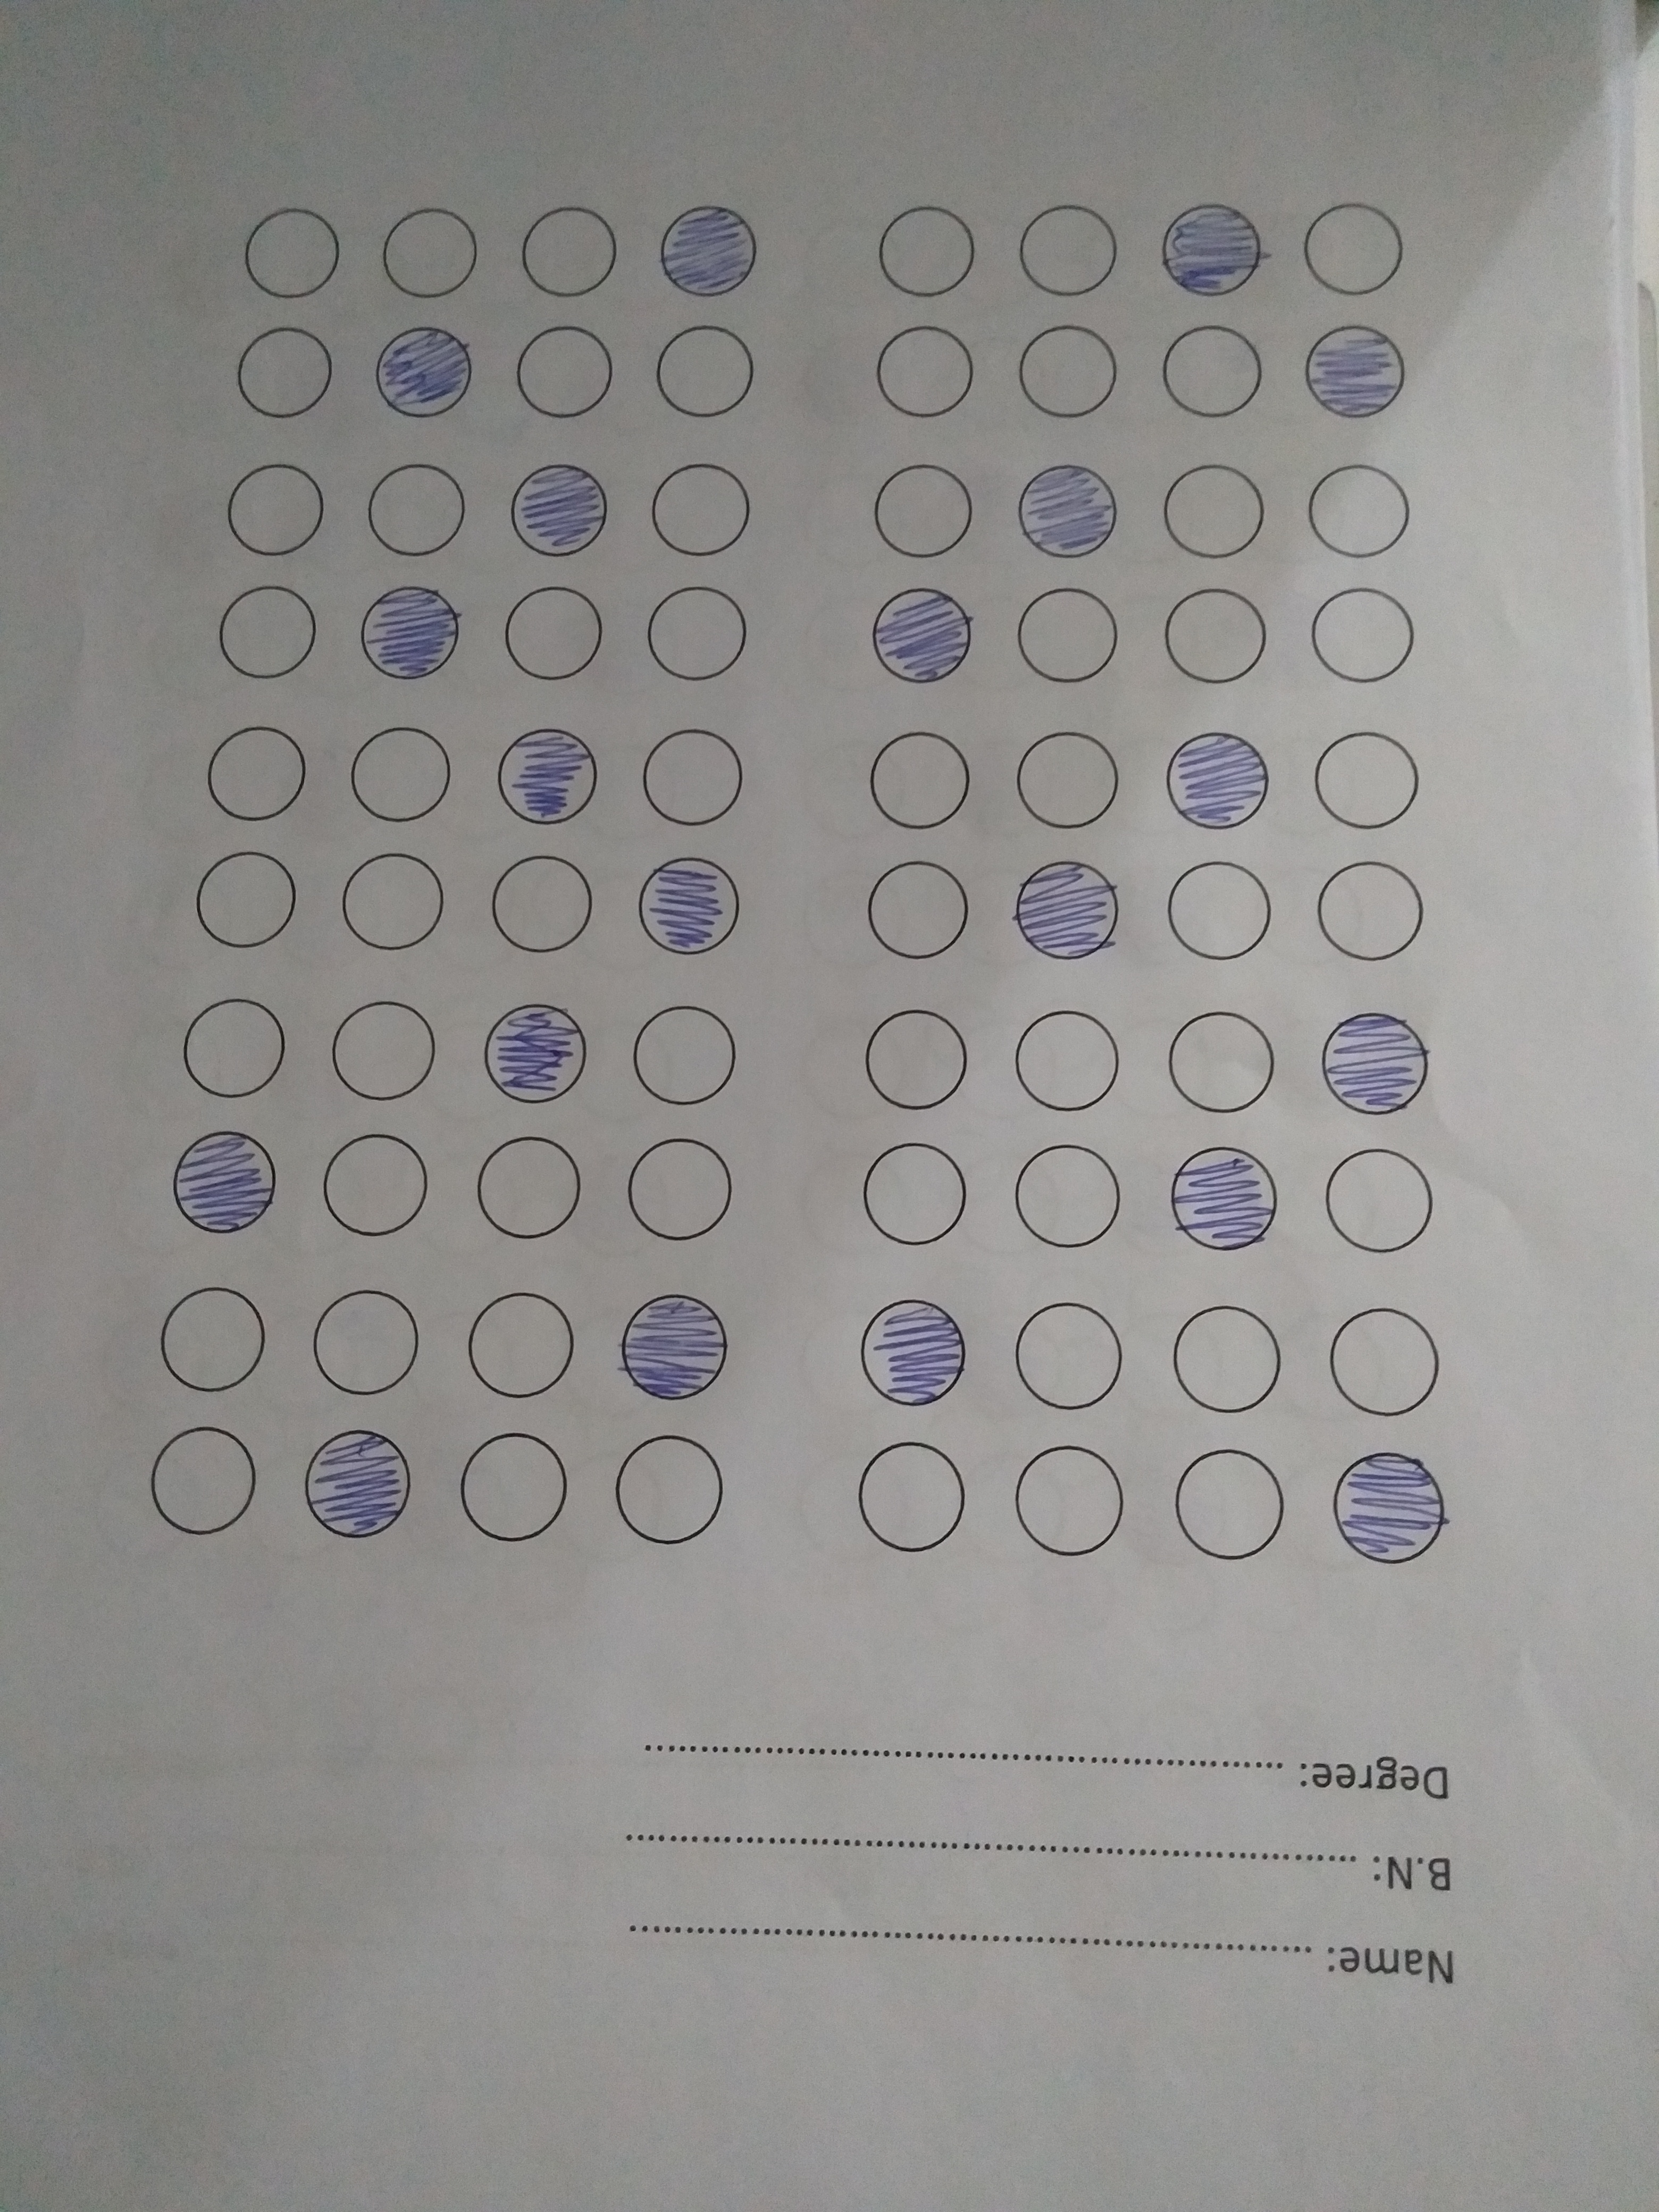not-c: (451, 1428, 570, 1545), (620, 1134, 737, 1251), (1007, 1143, 1124, 1259), (1171, 1299, 1288, 1416), (626, 1001, 744, 1116), (857, 1444, 974, 1559), (1166, 1446, 1283, 1561), (1009, 1446, 1126, 1561), (605, 1437, 721, 1552), (1012, 1301, 1129, 1416), (1328, 1303, 1445, 1418), (1319, 1144, 1436, 1259), (464, 1287, 577, 1406), (312, 1284, 423, 1400), (148, 1423, 260, 1534), (157, 1285, 268, 1393), (338, 850, 448, 954), (864, 1003, 974, 1108), (1303, 455, 1413, 559), (1159, 320, 1269, 425), (1009, 322, 1119, 427), (500, 585, 608, 690), (216, 578, 324, 683), (1164, 857, 1272, 961), (1014, 1007, 1124, 1109), (870, 324, 979, 427), (870, 204, 979, 307), (490, 857, 599, 960), (631, 728, 741, 831), (641, 583, 751, 686), (640, 460, 749, 563), (357, 455, 467, 557), (650, 317, 760, 420), (511, 319, 620, 421), (338, 721, 448, 824), (186, 848, 296, 951), (199, 721, 308, 824), (223, 462, 333, 564), (239, 200, 349, 303), (376, 197, 486, 300), (512, 199, 622, 301), (329, 996, 439, 1099), (181, 1001, 291, 1104), (1166, 1012, 1276, 1115), (1012, 730, 1122, 833), (1159, 587, 1269, 690), (1161, 462, 1270, 564), (1317, 860, 1427, 963), (1312, 733, 1422, 836), (1309, 587, 1419, 690), (1297, 199, 1406, 301), (863, 862, 972, 965), (866, 726, 976, 829), (866, 463, 976, 566), (861, 1143, 971, 1245), (472, 1134, 582, 1237), (317, 1132, 427, 1235), (235, 315, 343, 418), (1014, 193, 1122, 296), (1014, 585, 1122, 688)
taken-c: (1316, 1005, 1434, 1122), (298, 1425, 416, 1541), (856, 1294, 972, 1411), (1011, 850, 1127, 967), (613, 1289, 730, 1406), (1330, 1451, 1448, 1566), (1166, 1139, 1283, 1254), (166, 1125, 282, 1240), (1154, 193, 1270, 301), (1012, 458, 1129, 566), (481, 996, 592, 1108), (627, 848, 744, 954), (490, 725, 606, 831), (1300, 319, 1417, 425), (868, 580, 983, 686), (1162, 725, 1276, 831), (653, 195, 763, 298), (505, 455, 613, 557), (359, 580, 465, 681), (371, 317, 477, 418)
